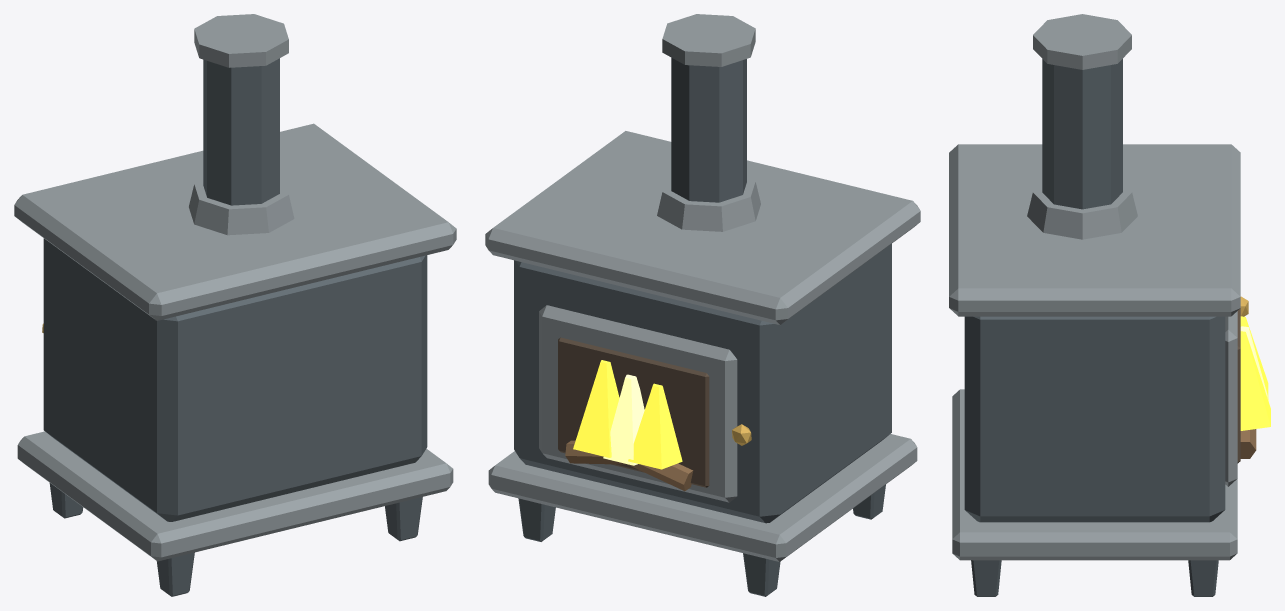
File: BUILD0049_WoodBurningStove.fbx
3 views of the same model, side by side, from view 1: azimuth 30°, elevation 25°; view 2: azimuth 150°, elevation 25°; view 3: azimuth 270°, elevation 25° (orthographic). The views are drawn at different scales.
Parts seen in each view (by area): view 1: BUILD0049_WoodBurningStove; view 2: BUILD0049_WoodBurningStove; view 3: BUILD0049_WoodBurningStove.
Boxes of the visible parts, x1,y1,x2,y2 form: BUILD0049_WoodBurningStove: [14, 14, 456, 596]; BUILD0049_WoodBurningStove: [485, 14, 920, 596]; BUILD0049_WoodBurningStove: [949, 14, 1270, 596].
Bounding box in the file's own units: 1.16 × 1.79 × 1.04.
